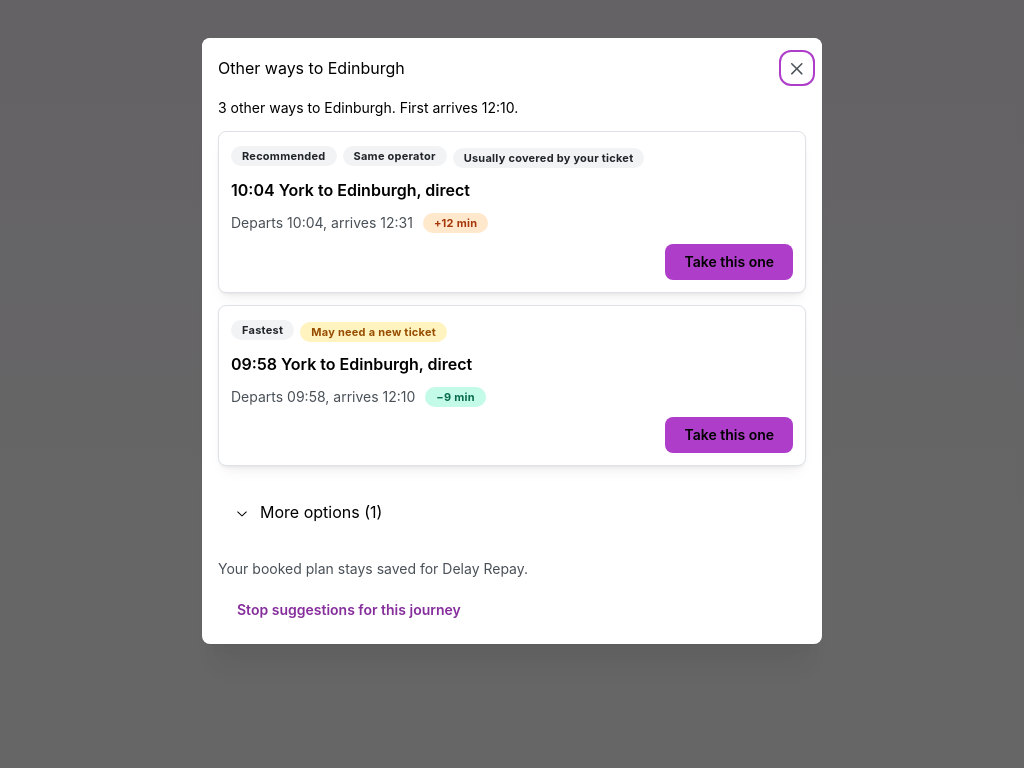
Test: AlternativesSheet › records the miss only when another train is taken
Click the button with aria-label "Take this one: 10:04 York to Edinburgh, direct": (729, 262) [666,244,793,280]
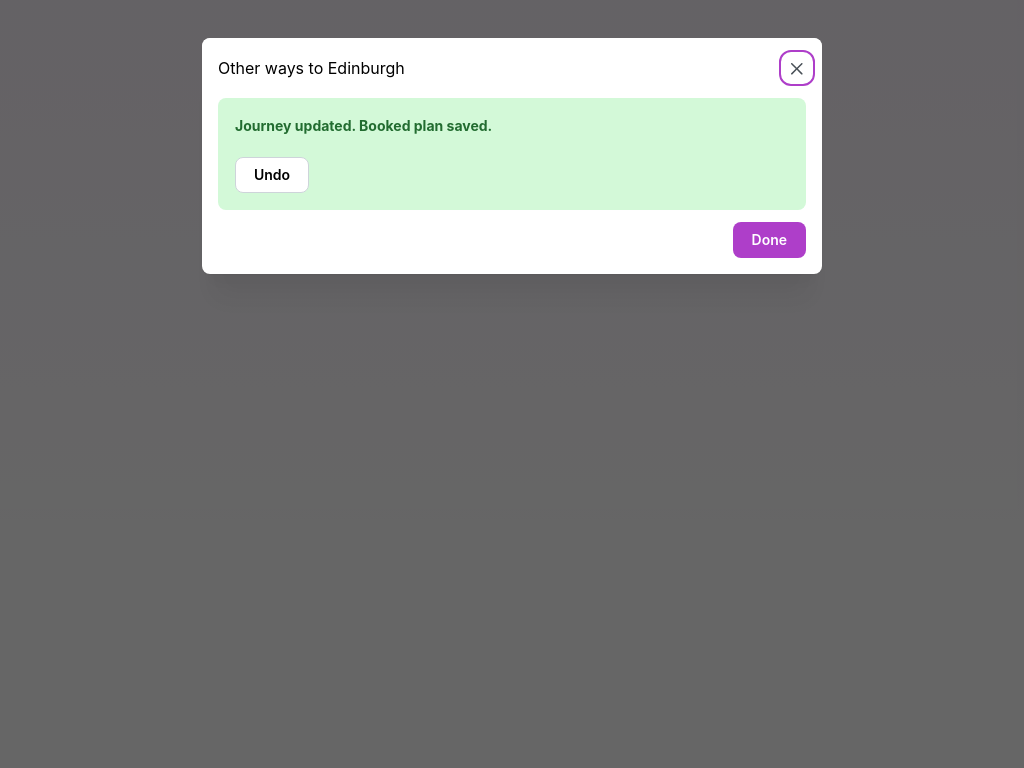
Result: the text "Journey updated. Booked plan saved." is shown at [235,115,492,137]
